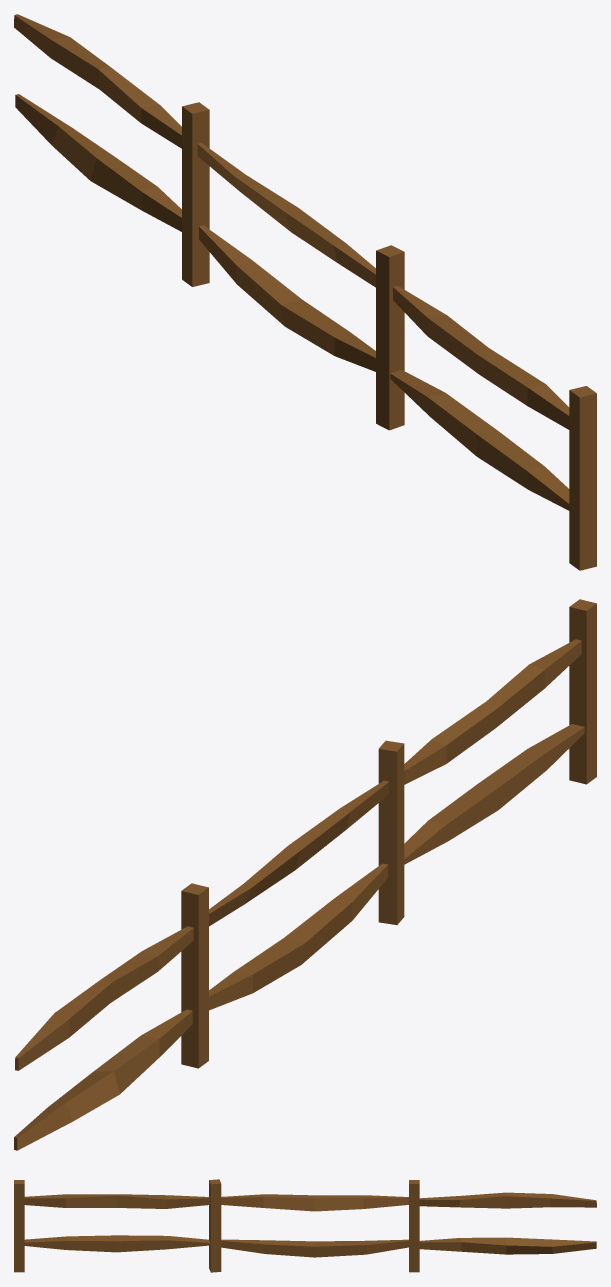
The model's file is fence.fbx.
3 views of the same model, one above another, from view 1: azimuth 30°, elevation 25°; view 2: azimuth 150°, elevation 25°; view 3: azimuth 270°, elevation 25° (orthographic). The views are drawn at different scales.
Visible parts, largest first — view 1: fence; view 2: fence; view 3: fence.
Boxes of the visible parts, x1=… form: fence: x1=14, y1=14, x2=596, y2=570; fence: x1=14, y1=599, x2=596, y2=1150; fence: x1=14, y1=1179, x2=596, y2=1272.
Size of the model in its own units: 19.11 by 118 by 707.
